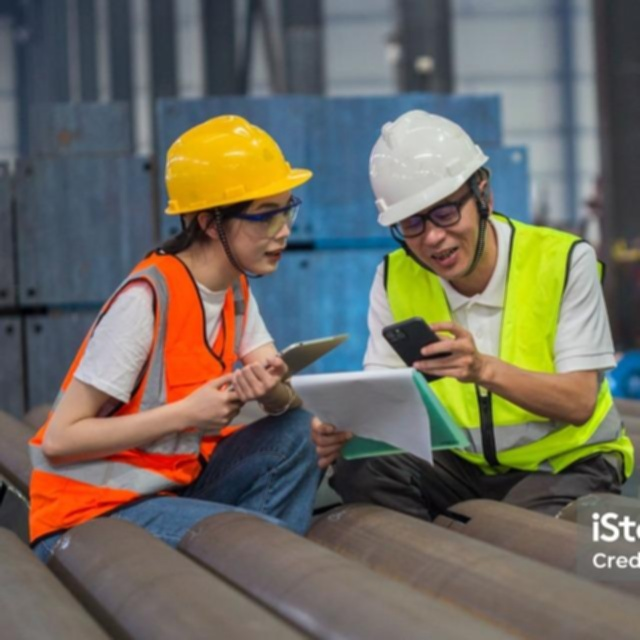Con_Casco: (161, 114, 316, 277), (367, 108, 493, 279)
Con_Chaleco: (375, 226, 629, 475), (40, 258, 248, 518)
